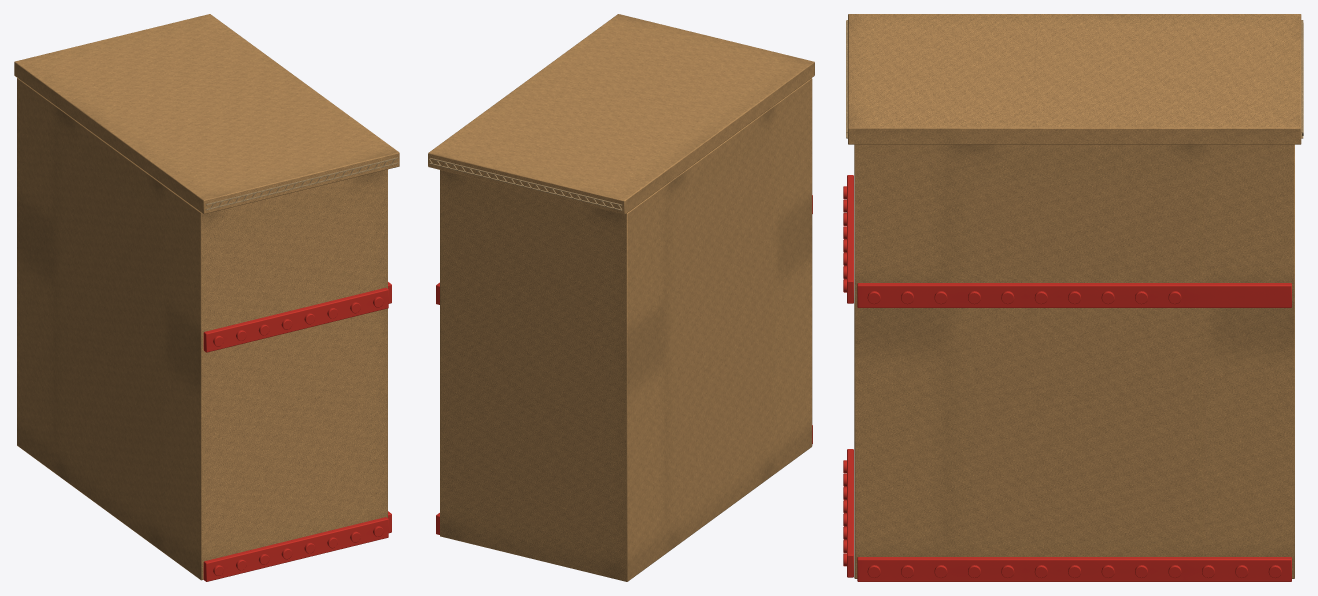
File: 3-right-stand-box-1.fbx
The picture shows the model from 3 angles, left to right: view 1: azimuth 30°, elevation 25°; view 2: azimuth 150°, elevation 25°; view 3: azimuth 270°, elevation 25°; orthographic projection. The views are drawn at different scales.
Visible parts, largest first — view 1: right-stand-box-1; view 2: right-stand-box-1; view 3: right-stand-box-1.
Boxes of the visible parts, x1=… form: right-stand-box-1: x1=14, y1=14, x2=399, y2=581; right-stand-box-1: x1=428, y1=14, x2=814, y2=581; right-stand-box-1: x1=843, y1=14, x2=1303, y2=581.
Size of the model in its own units: 4300 by 8000 by 7307.
1 material, 1 textured.
